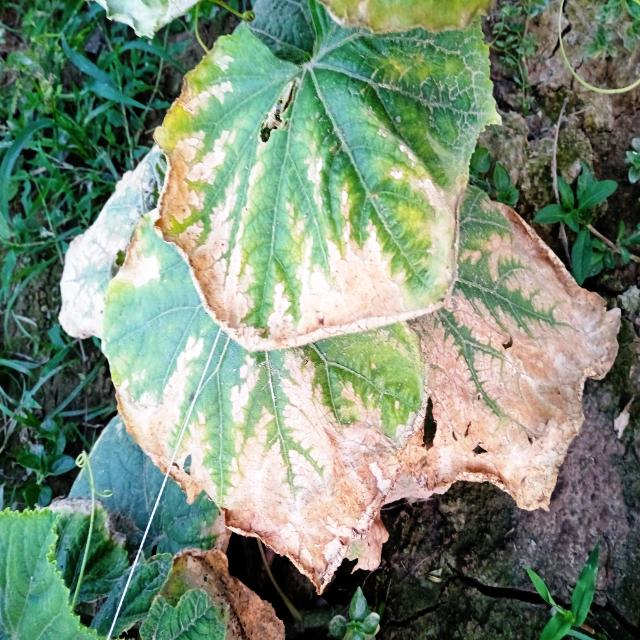Gummy-Stem-Blight: (349, 183, 626, 574), (111, 338, 415, 601), (153, 125, 443, 354)
